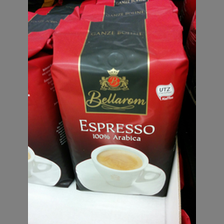coffee: (49, 16, 189, 196)
